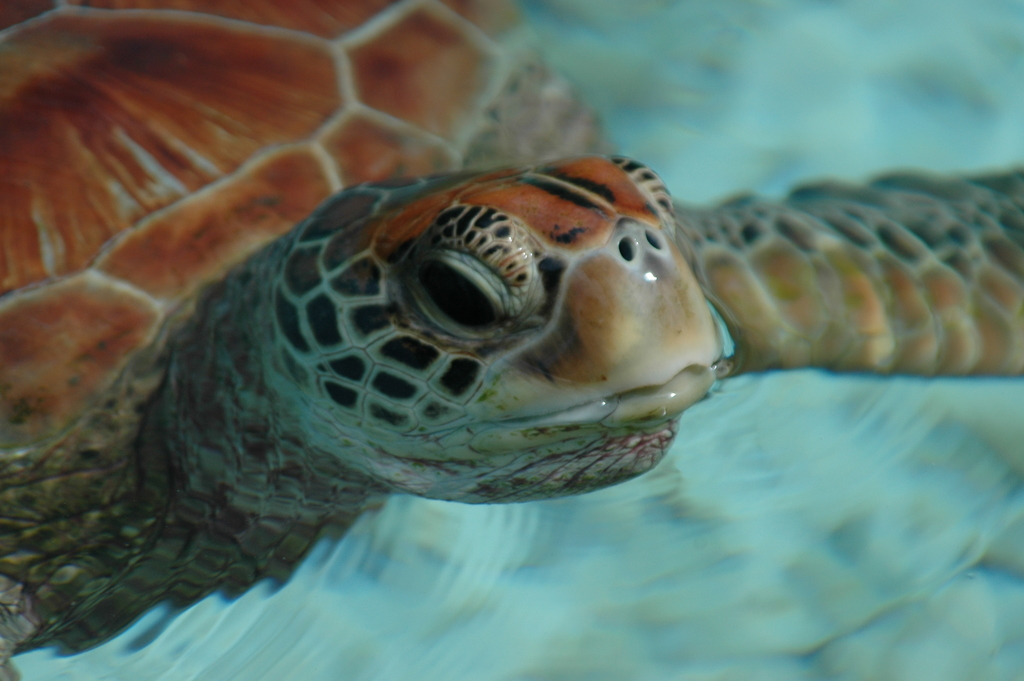Sea turtles: (0, 0, 1023, 670)
